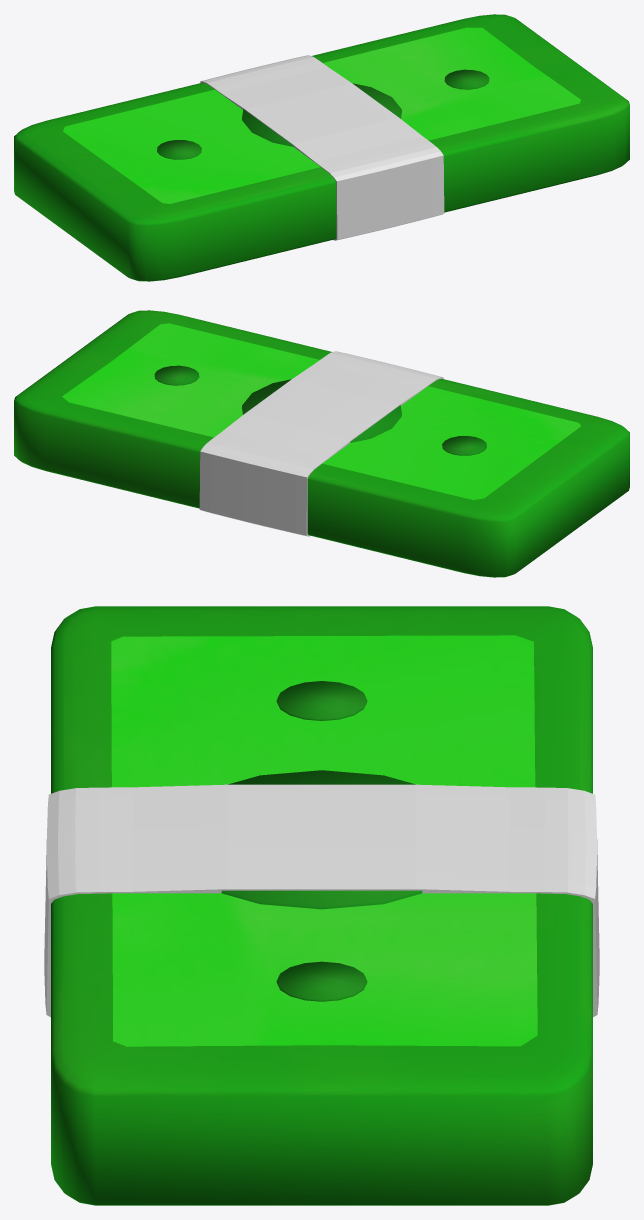
The model's file is Money.fbx.
3 renders of one model, top to bottom at view 1: azimuth 30°, elevation 25°; view 2: azimuth 150°, elevation 25°; view 3: azimuth 270°, elevation 25°, orthographic. The views are drawn at different scales.
Visible parts, largest first — view 1: Dollar Low_Material.001_0, Dollar Low_Material.002_0; view 2: Dollar Low_Material.001_0, Dollar Low_Material.002_0; view 3: Dollar Low_Material.001_0, Dollar Low_Material.002_0.
Boxes of the visible parts, x1=… form: Dollar Low_Material.001_0: x1=14, y1=14, x2=629, y2=281; Dollar Low_Material.002_0: x1=200, y1=55, x2=444, y2=240; Dollar Low_Material.001_0: x1=14, y1=310, x2=629, y2=577; Dollar Low_Material.002_0: x1=199, y1=351, x2=443, y2=536; Dollar Low_Material.001_0: x1=51, y1=606, x2=592, y2=1205; Dollar Low_Material.002_0: x1=44, y1=784, x2=599, y2=1017.
Bounding box in the file's own units: 64 × 8.35 × 30.74.
Materials: 2 (1 with a texture image).
